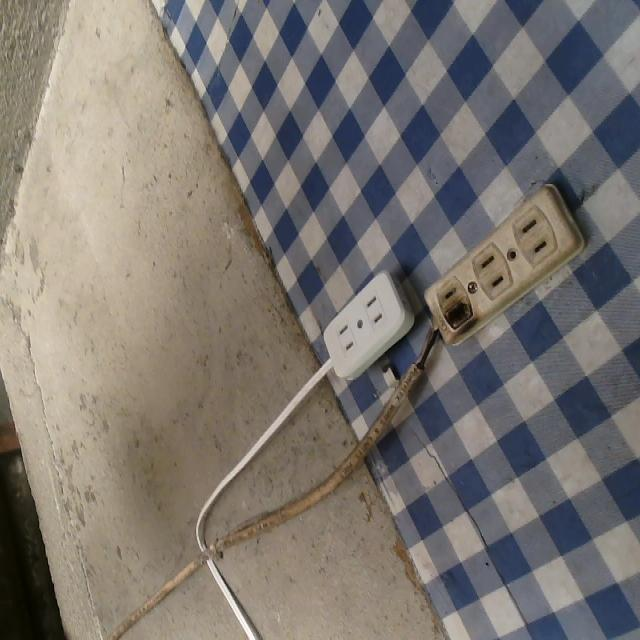-: (442, 293, 478, 339)
